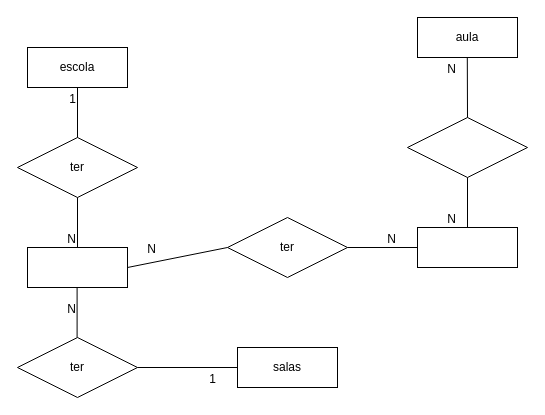
The diagram is 545 pixels wide and 415 high, and some of its shapes have lost their labels. Here are the shapes that lost their labels. From the top down, the box of each, then its label:
(406, 116, 528, 178): ministrar
(26, 246, 128, 288): turmas
(416, 226, 518, 268): professores
